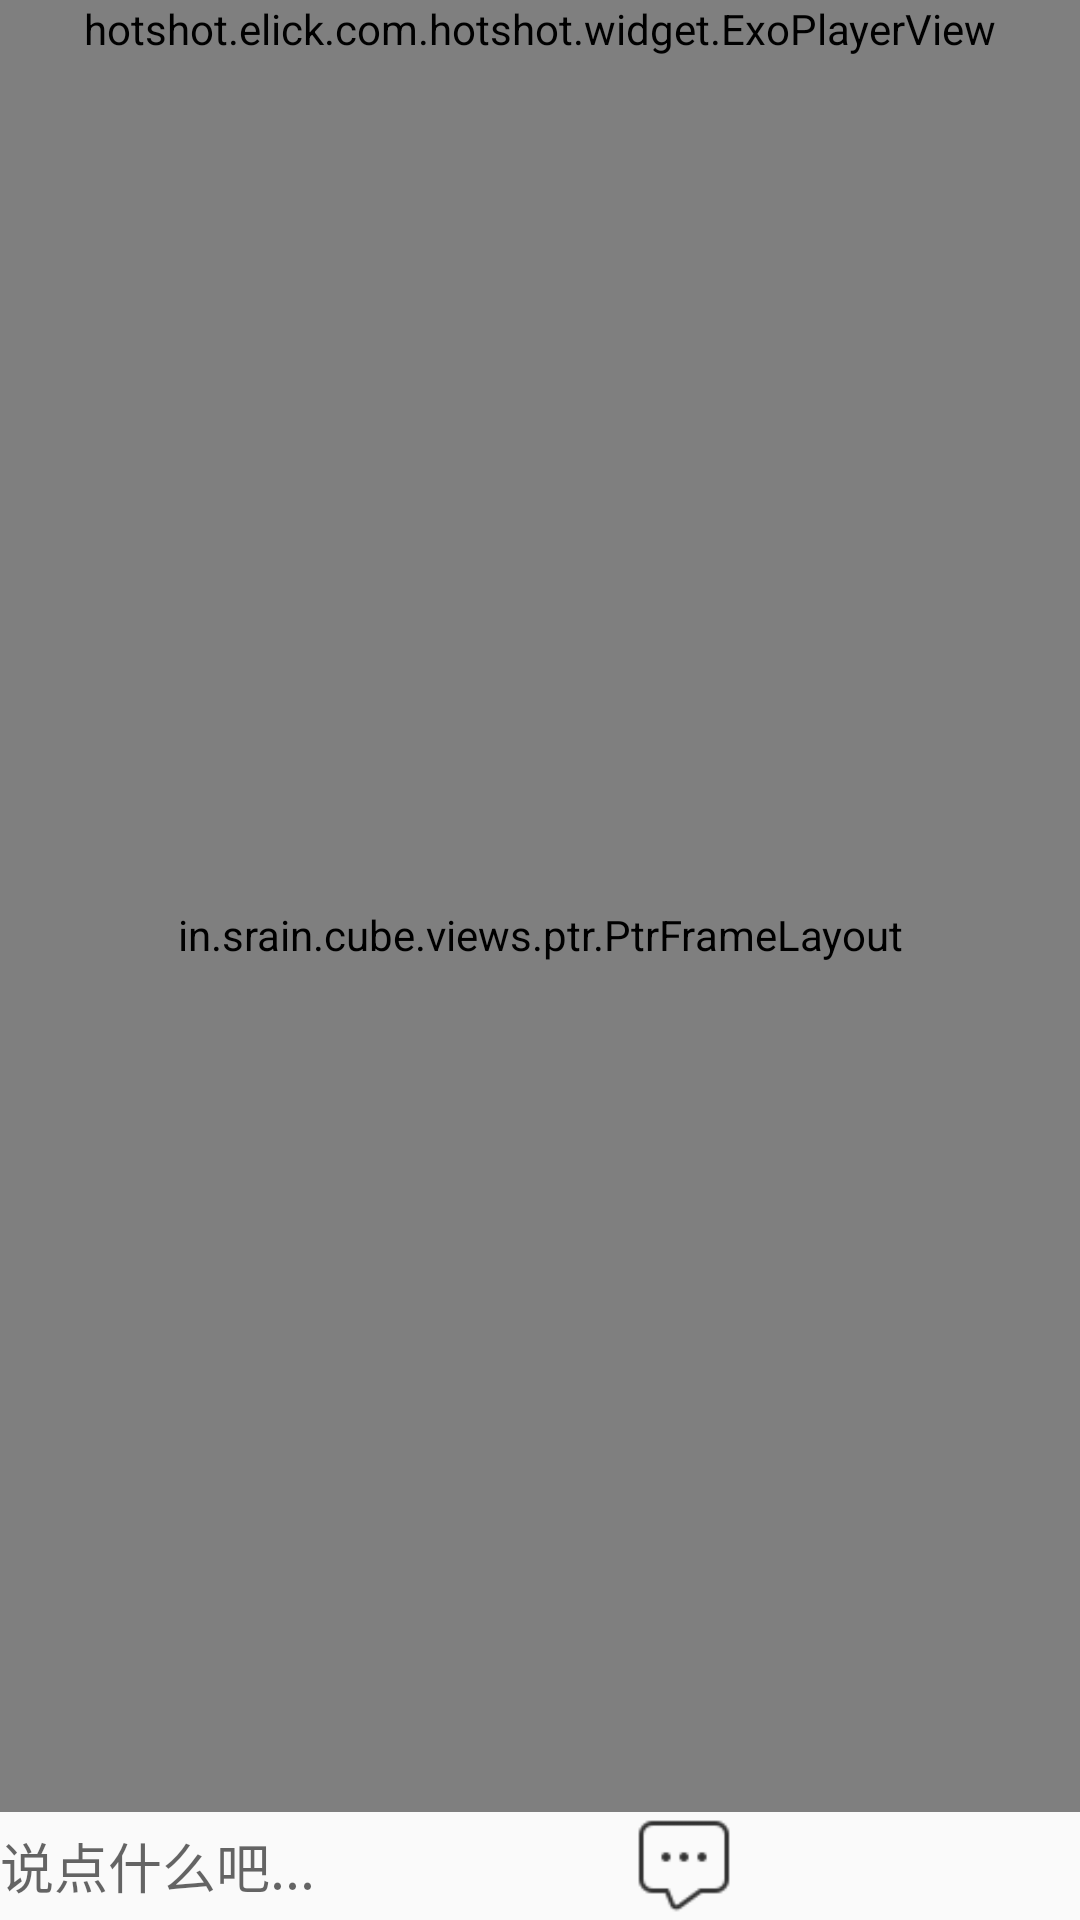

Icon bounding boxes for this 1080*1920 phone screenshot, format {"left": x1, "top": y1, "right": x2, "bottom": y2}:
comment: {"left": 638, "top": 1820, "right": 730, "bottom": 1911}
